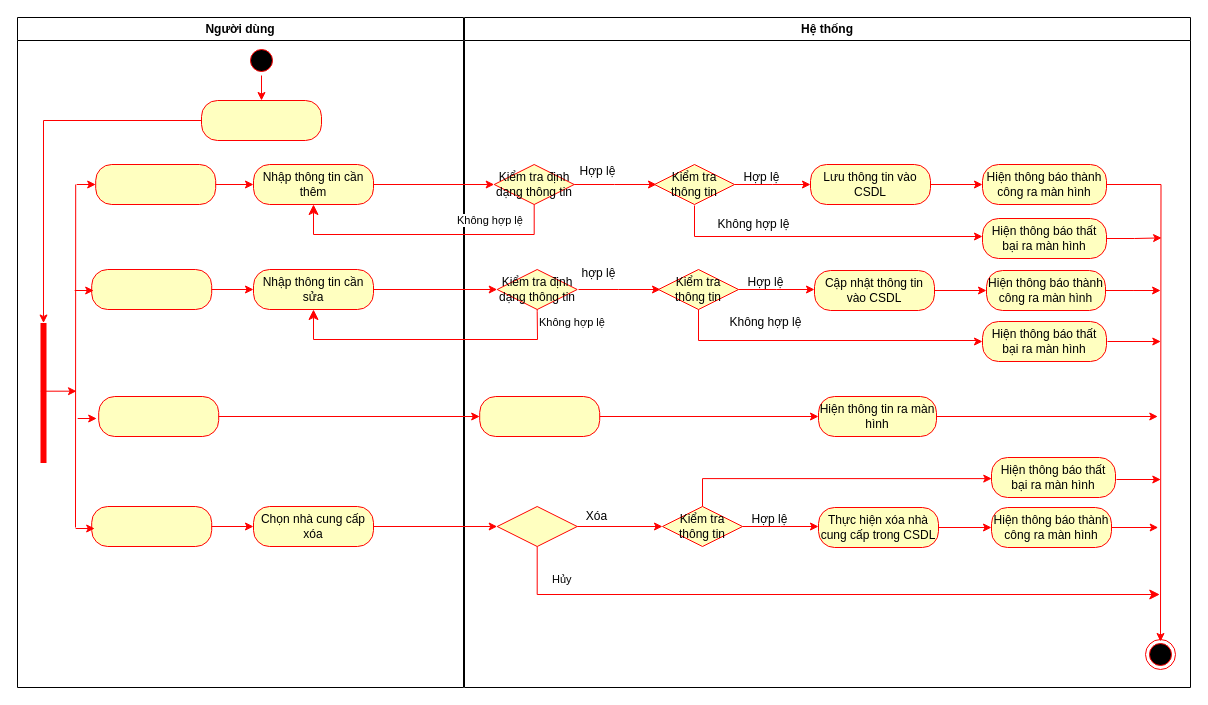
Image size: 1208x705. Some labels were removed from this diagram. The shapes that lost their labels are listed below. From the top down, each one's centre as x and y in pixels, then its label:
pixel 261 120: Chọn quản lí nhà cung cấp
pixel 155 184: Thêm nhà cung cấp
pixel 151 289: Sửa nhà cung cấp
pixel 158 416: Xem thông tin
pixel 539 416: Truy xuất dữ liệu nhà cung cấp trong CSDL
pixel 151 526: Xóa nhà cung cấp
pixel 536 526: Xác nhận xóa
